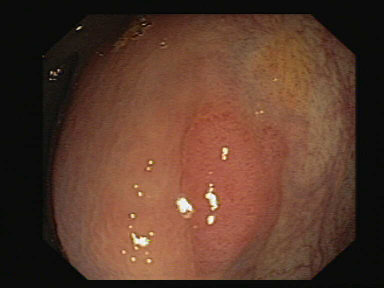polyp: (158, 93, 314, 284)
